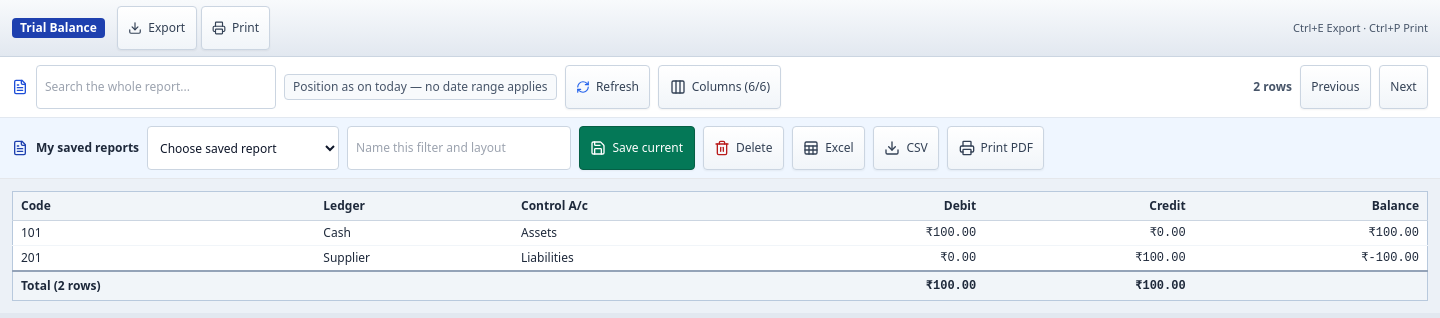
Test case: LiveReportView › the search reaches the server rather than filtering the fetched page
Expected: the text "Supplier" is shown, [315, 246, 513, 271]
Type "Cash" into the field named "Search this report".
click(156, 87); type("Cash")  # box [36, 65, 276, 109]
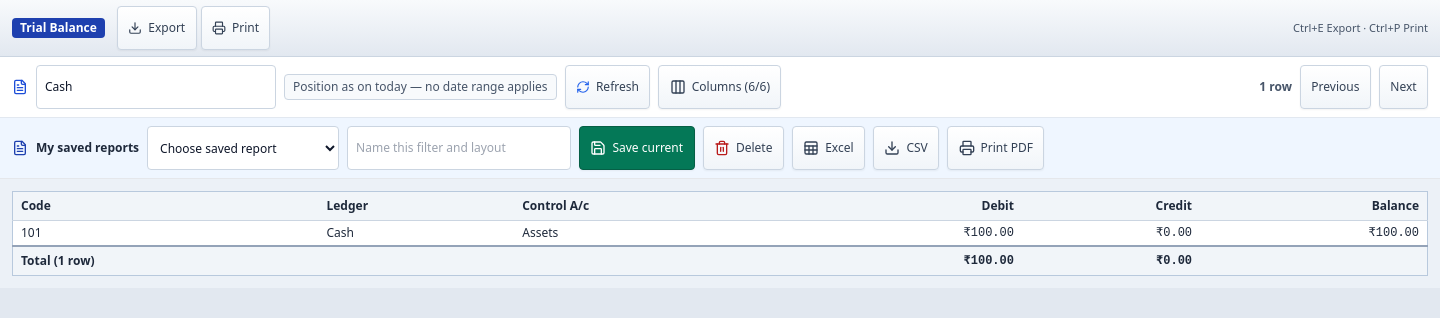
Result: the text "Supplier" is gone
